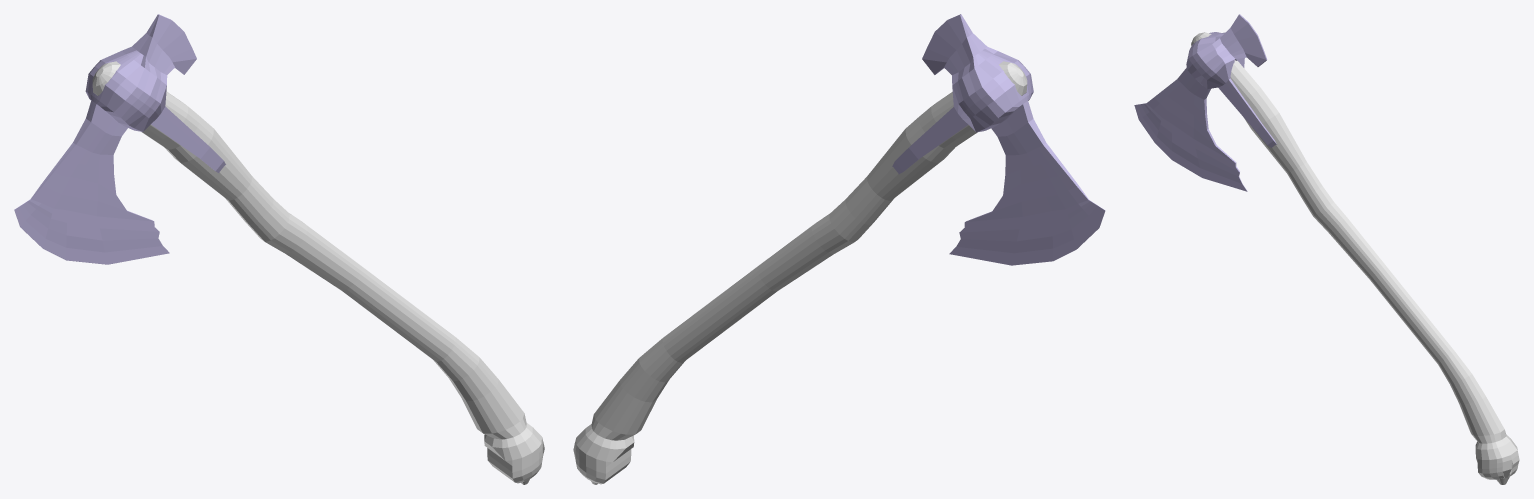
File: axe.fbx
3 renders of one model, left to right at view 1: azimuth 30°, elevation 25°; view 2: azimuth 150°, elevation 25°; view 3: azimuth 330°, elevation 25°, orthographic. The views are drawn at different scales.
Visible parts, largest first — view 1: Plane.001, Plane; view 2: Plane.001, Plane; view 3: Plane, Plane.001.
Boxes of the visible parts, bbox=[...] form: Plane.001: bbox=[14, 14, 225, 264]; Plane: bbox=[92, 61, 544, 484]; Plane.001: bbox=[892, 14, 1105, 265]; Plane: bbox=[573, 61, 1027, 484]; Plane: bbox=[1191, 32, 1519, 484]; Plane.001: bbox=[1134, 14, 1276, 191].
Bounding box in the file's own units: 1271 × 1286 × 161.
